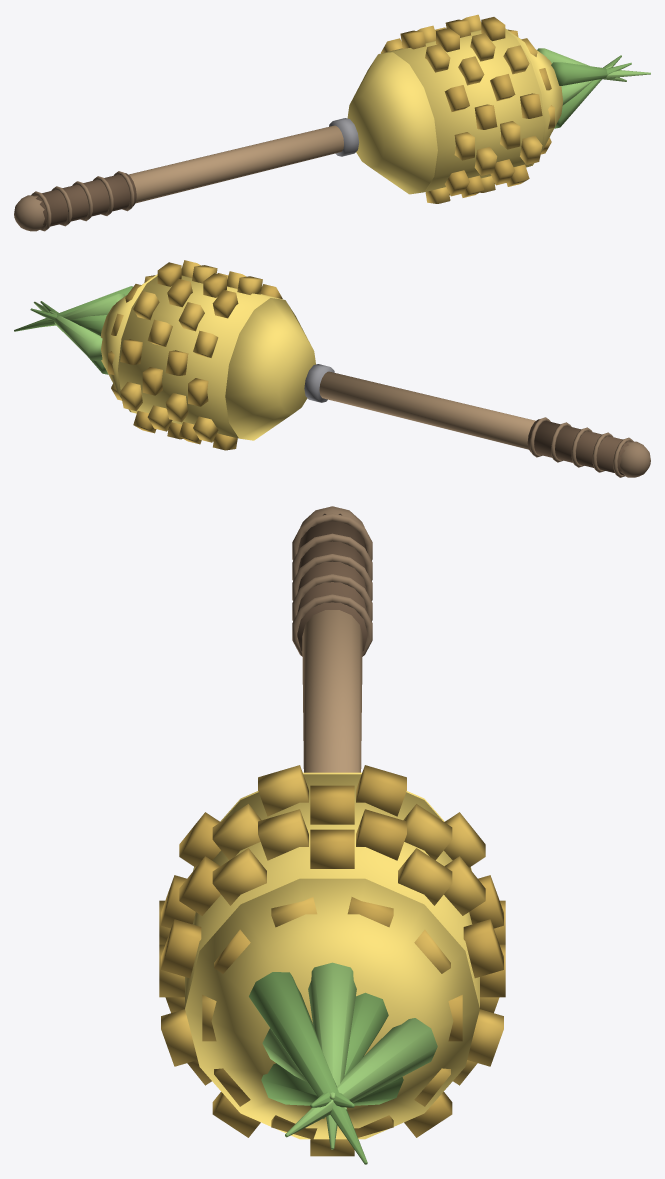
Rendered from weapon-pineapple-sledge.fbx.
3 renders of one model, top to bottom at view 1: azimuth 30°, elevation 25°; view 2: azimuth 150°, elevation 25°; view 3: azimuth 270°, elevation 25°, orthographic. The views are drawn at different scales.
Visible parts, largest first — view 1: PineappleSledge; view 2: PineappleSledge; view 3: PineappleSledge.
Part boxes in pixels (<box>): PineappleSledge: <box>14,14,650,231</box>; PineappleSledge: <box>14,260,650,477</box>; PineappleSledge: <box>159,506,505,1164</box>.
Bounding box in the file's own units: 3.91 × 0.94 × 0.94.
